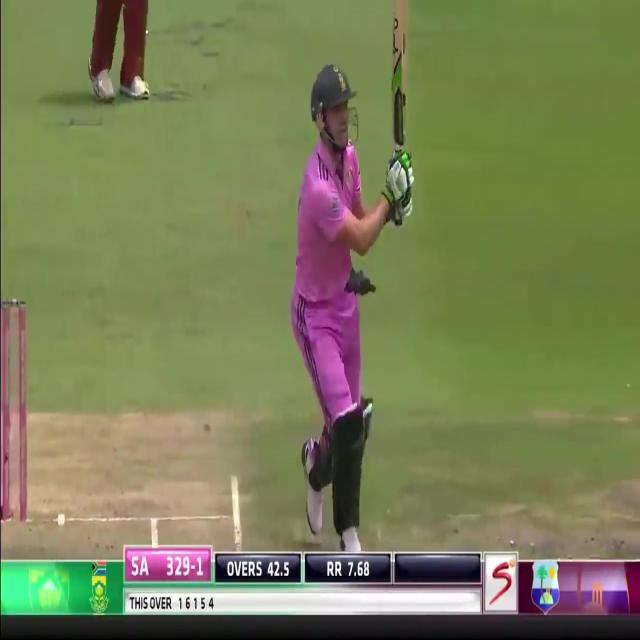Ball: (284, 63, 414, 556)
Fielder: (87, 0, 159, 100)
